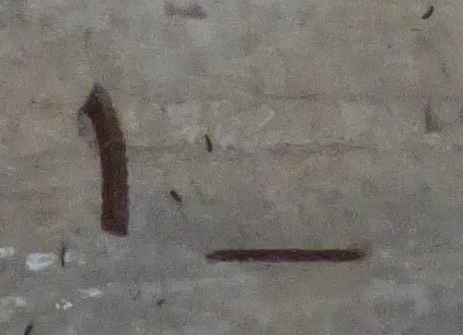Exposed reinforcement: (82, 82, 130, 236), (205, 247, 364, 263)
